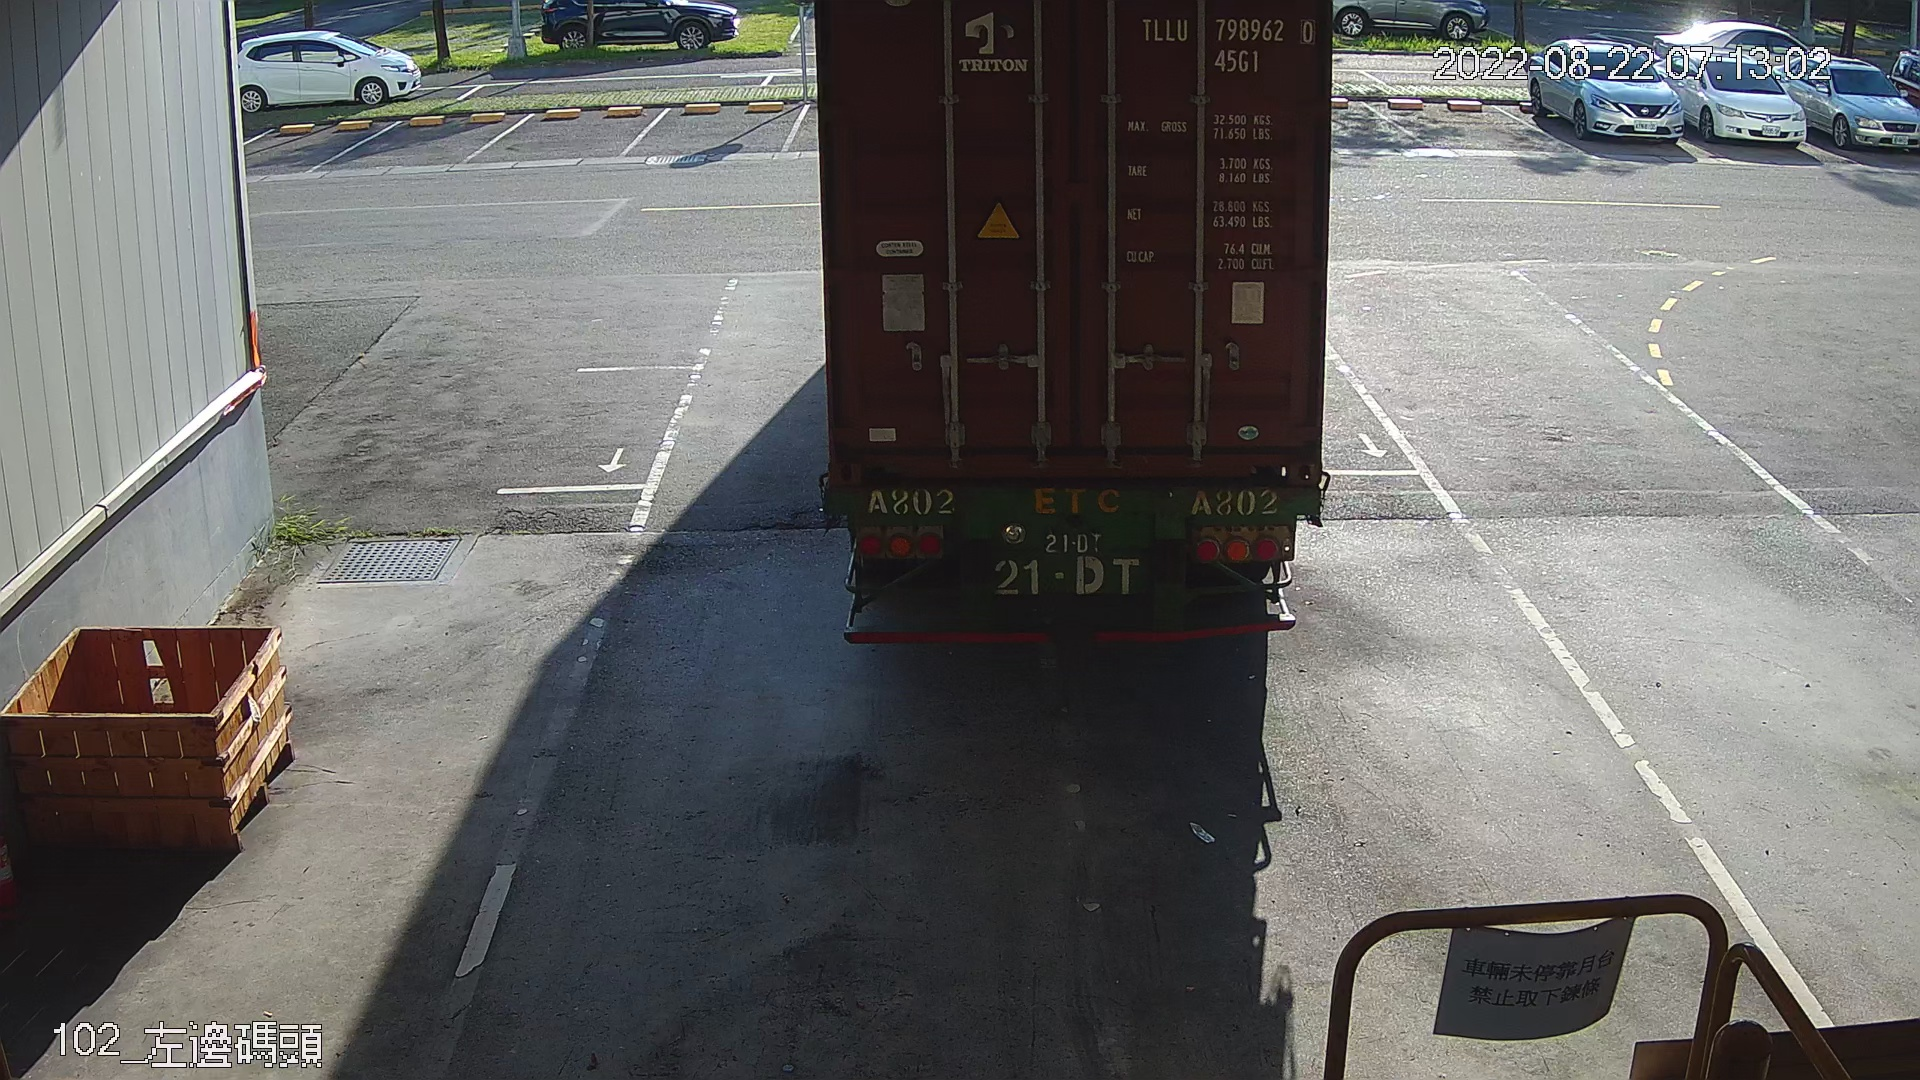container: (1131, 7, 1325, 83)
